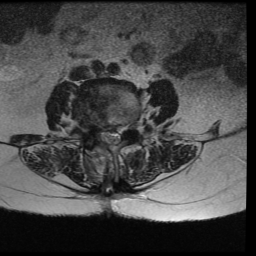CCS_severe_stenosis: (106, 121, 113, 152)
LFS_stenosis: (122, 115, 132, 137)
LLS_normal: (113, 123, 122, 148)
RFS_severe_stenosis: (89, 116, 98, 139)
RLS_normal: (98, 123, 106, 148)
